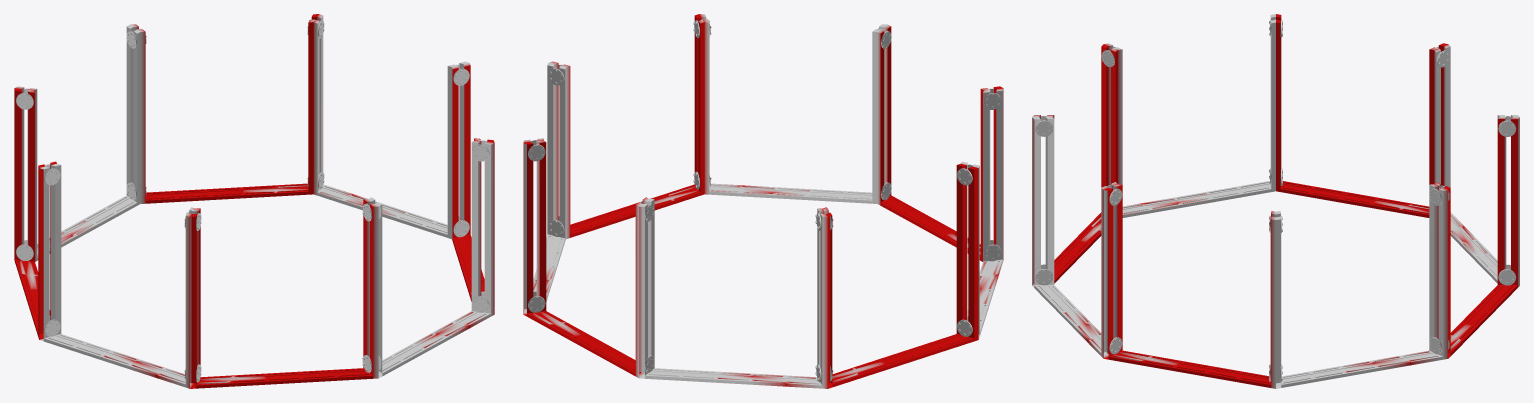
Rendered from MoonBaboon_GlassWall_01_fbx.fbx.
3 renders of one model, left to right at view 1: azimuth 30°, elevation 25°; view 2: azimuth 150°, elevation 25°; view 3: azimuth 270°, elevation 25°, orthographic.
Parts seen in each view (by area): view 1: MoonBaboon_GlassWall_01.001; view 2: MoonBaboon_GlassWall_01.001; view 3: MoonBaboon_GlassWall_01.001.
Boxes of the visible parts, box(x1,y1,x2,y2) form: MoonBaboon_GlassWall_01.001: box(14, 14, 494, 388); MoonBaboon_GlassWall_01.001: box(523, 14, 1003, 388); MoonBaboon_GlassWall_01.001: box(1032, 14, 1519, 388).
Size of the model in its own units: 13082 by 4995 by 13082.
